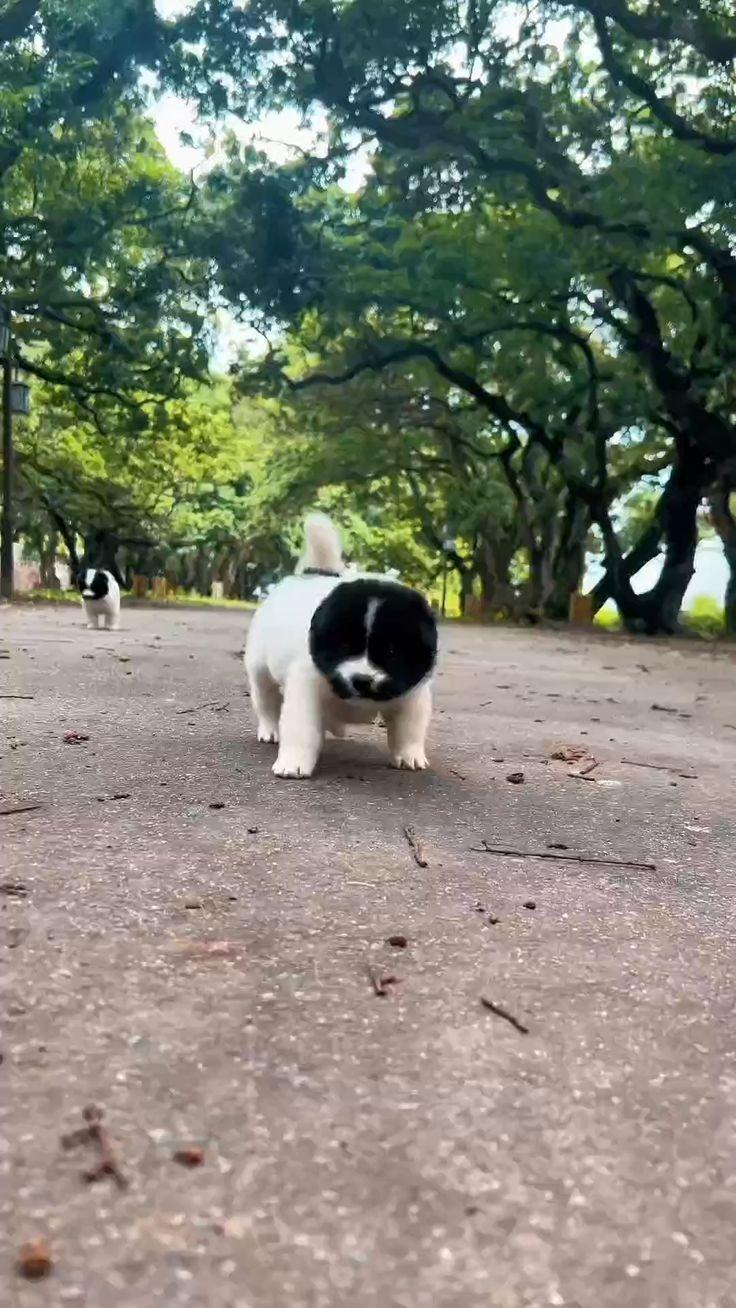puppy-dog: (243, 512, 440, 782), (79, 564, 122, 632)
